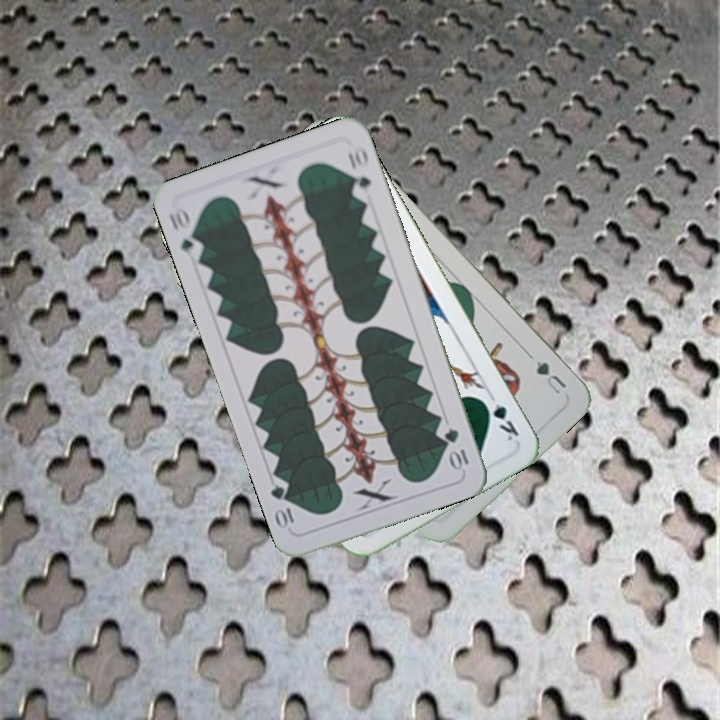G10: (164, 202, 206, 258), (440, 424, 472, 473)
GK: (478, 395, 522, 444)
GU: (531, 356, 569, 397)
